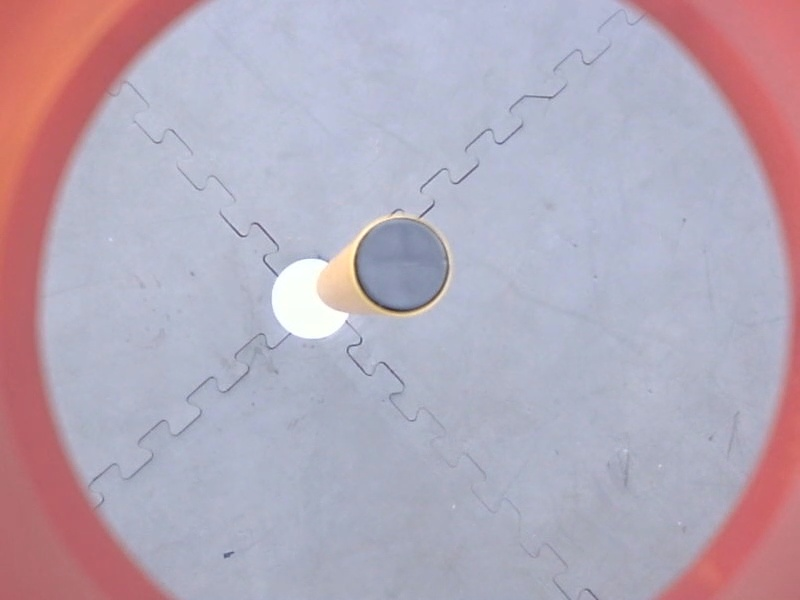tip: (346, 208, 460, 325)
